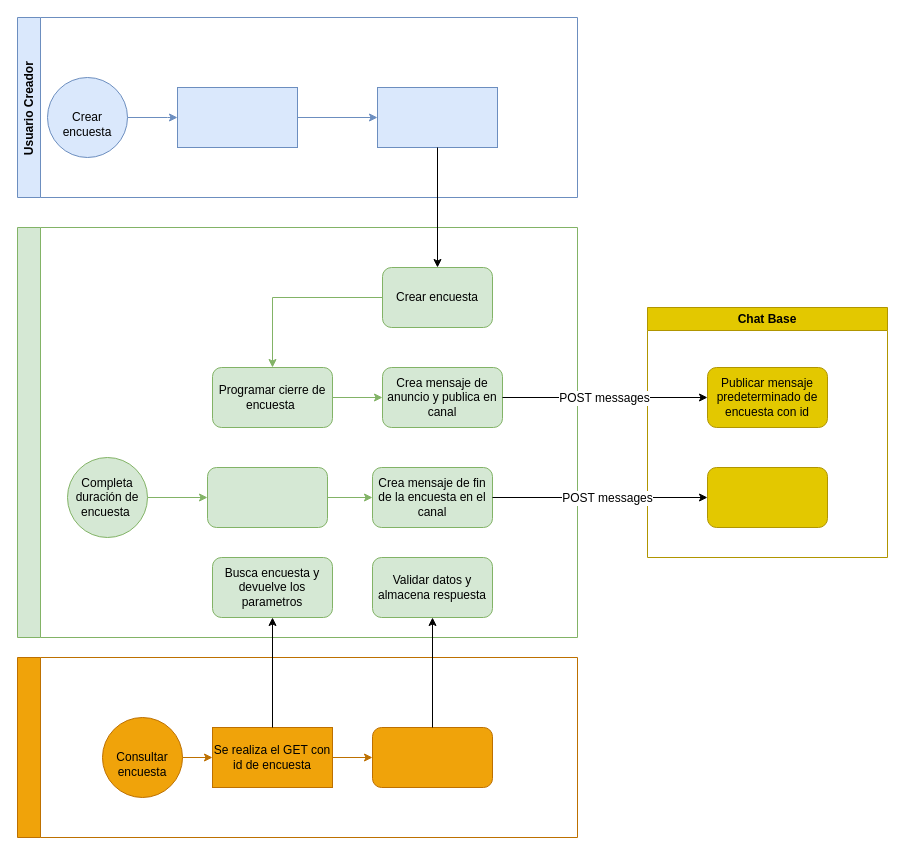
Some shapes in this 905 by 855 pixel diagram are drawn without their labels. The shapes that lost their labels are listed below. From the top down, each one's box as (x1, y1, x2, y2) in pixels, then its label:
(176, 86, 298, 148): Definir Pregunta, Alternativas y duración de encuesta
(376, 86, 498, 148): Enviar solicitud a Microservicio Encuestas
(16, 226, 578, 638): Microservicio Encuestas
(206, 466, 328, 528): Se bloquean las respuestas
(706, 466, 828, 528): Publica mensaje de fin de encuesta con los resultados
(16, 656, 578, 838): Usuario Votante
(372, 726, 492, 788): Se realiza post de respuesta
